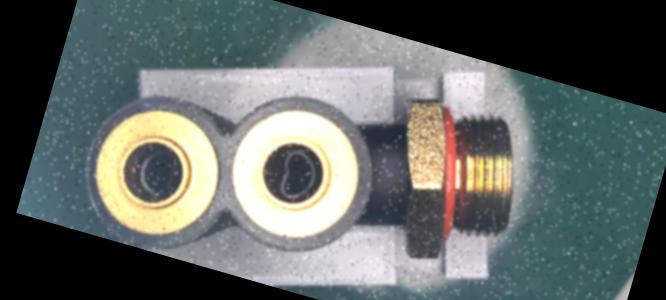off-centered: (266, 138, 328, 209), (128, 140, 187, 206)
